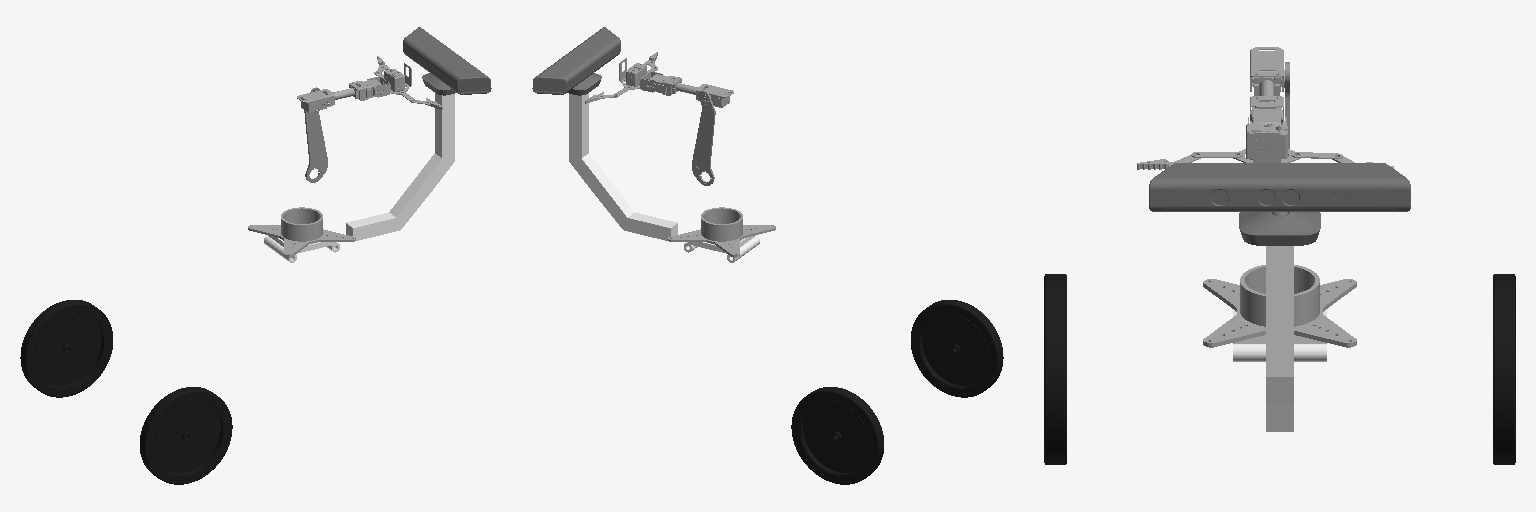
--- What the picture shows (computed from the rendered views, not written in the file) ---
The picture shows the robot from 3 angles, left to right: view 1: azimuth 30°, elevation 25°; view 2: azimuth 150°, elevation 25°; view 3: azimuth 270°, elevation 25°; orthographic projection.
Model agribot_dummy_1 with 15 links and 14 joints (11 continuous, 1 prismatic, 2 fixed), rooted at base_link, posed every joint at zero.
Visible links, largest first — view 1: back_right_wheel, back_left_wheel, cam_attachment, Kinect, arm_base, link_3, link_2, eef_base, slider_link; view 2: back_left_wheel, back_right_wheel, cam_attachment, Kinect, arm_base, link_2, link_3, eef_base, slider_link; view 3: Kinect, arm_base, cam_attachment, back_left_wheel, back_right_wheel, link_3, eef_base, slider_link, right_claw.
Boxes of the visible links, left/top/right/bottom form: back_right_wheel: left=140, top=387, right=232, bottom=484; back_left_wheel: left=20, top=300, right=112, bottom=397; cam_attachment: left=346, top=93, right=454, bottom=240; Kinect: left=403, top=27, right=491, bottom=95; arm_base: left=248, top=207, right=355, bottom=257; link_3: left=297, top=79, right=381, bottom=112; link_2: left=304, top=87, right=327, bottom=182; eef_base: left=367, top=63, right=411, bottom=97; slider_link: left=264, top=235, right=339, bottom=262; back_left_wheel: left=791, top=387, right=883, bottom=484; back_right_wheel: left=911, top=300, right=1003, bottom=397; cam_attachment: left=569, top=93, right=677, bottom=240; Kinect: left=532, top=27, right=620, bottom=95; arm_base: left=668, top=207, right=775, bottom=257; link_2: left=692, top=90, right=715, bottom=185; link_3: left=647, top=74, right=733, bottom=107; eef_base: left=619, top=58, right=662, bottom=92; slider_link: left=684, top=235, right=759, bottom=262; Kinect: left=1149, top=163, right=1410, bottom=245; arm_base: left=1203, top=265, right=1356, bottom=347; cam_attachment: left=1266, top=246, right=1293, bottom=431; back_left_wheel: left=1493, top=274, right=1515, bottom=464; back_right_wheel: left=1044, top=274, right=1066, bottom=464; link_3: left=1250, top=47, right=1284, bottom=124; eef_base: left=1233, top=117, right=1300, bottom=162; slider_link: left=1233, top=309, right=1326, bottom=361; right_claw: left=1137, top=152, right=1242, bottom=169.
Bounding box of the posed robot: 0.8741 × 0.5006 × 0.679 m (x, y, z).
Meshes: 15 distinct files referenced, 11 mesh visuals loaded (11 binary STL); not drawn: 4 (reference not matched to a file when rendering).

robot.urdf — agribot_dummy_1:
<?xml version="1.0" ?>
<!-- =================================================================================== -->
<!-- |    This document was autogenerated by xacro from [local-path]/ws_moveit/src/agribot_dummy_1_description/urdf/agribot_dummy_1.xacro | -->
<!-- |    EDITING THIS FILE BY HAND IS NOT RECOMMENDED                                 | -->
<!-- =================================================================================== -->
<robot name="agribot_dummy_1">
    <material name="silver_default">
        <color rgba="0.700 0.700 0.700 1.000" />
    </material>
    <material name="rubber_hard">
        <color rgba="0.15294117647058825 0.15294117647058825 0.15294117647058825 1.0" />
    </material>
    <material name="opaque565656">
        <color rgba="0.2196078431372549 0.2196078431372549 0.2196078431372549 1.0" />
    </material>
    <material name="steel_satin">
        <color rgba="0.6274509803921569 0.6274509803921569 0.6274509803921569 1.0" />
    </material>
    <material name="aluminum_satin">
        <color rgba="0.9607843137254902 0.9607843137254902 0.9647058823529412 1.0" />
    </material>
    <material name="opaque126126126">
        <color rgba="0.49411764705882355 0.49411764705882355 0.49411764705882355 1.0" />
    </material>
    <transmission name="front_right_tran">
        <type>transmission_interface/SimpleTransmission</type>
        <joint name="front_right">
            <hardwareInterface>hardware_interface/EffortJointInterface</hardwareInterface>
        </joint>
        <actuator name="front_right_actr">
            <hardwareInterface>hardware_interface/EffortJointInterface</hardwareInterface>
            <mechanicalReduction>1</mechanicalReduction>
        </actuator>
    </transmission>
    <transmission name="front_left_tran">
        <type>transmission_interface/SimpleTransmission</type>
        <joint name="front_left">
            <hardwareInterface>hardware_interface/EffortJointInterface</hardwareInterface>
        </joint>
        <actuator name="front_left_actr">
            <hardwareInterface>hardware_interface/EffortJointInterface</hardwareInterface>
            <mechanicalReduction>1</mechanicalReduction>
        </actuator>
    </transmission>
    <transmission name="back_left_tran">
        <type>transmission_interface/SimpleTransmission</type>
        <joint name="back_left">
            <hardwareInterface>hardware_interface/EffortJointInterface</hardwareInterface>
        </joint>
        <actuator name="back_left_actr">
            <hardwareInterface>hardware_interface/EffortJointInterface</hardwareInterface>
            <mechanicalReduction>1</mechanicalReduction>
        </actuator>
    </transmission>
    <transmission name="back_right_tran">
        <type>transmission_interface/SimpleTransmission</type>
        <joint name="back_right">
            <hardwareInterface>hardware_interface/EffortJointInterface</hardwareInterface>
        </joint>
        <actuator name="back_right_actr">
            <hardwareInterface>hardware_interface/EffortJointInterface</hardwareInterface>
            <mechanicalReduction>1</mechanicalReduction>
        </actuator>
    </transmission>
    <transmission name="Slider 14_tran">
        <type>transmission_interface/SimpleTransmission</type>
        <joint name="Slider">
            <hardwareInterface>hardware_interface/PositionJointInterface</hardwareInterface>
        </joint>
        <actuator name="Slider 14_actr">
            <hardwareInterface>hardware_interface/PositionJointInterface</hardwareInterface>
            <mechanicalReduction>1</mechanicalReduction>
        </actuator>
    </transmission>
    <transmission name="arm_twist_tran">
        <type>transmission_interface/SimpleTransmission</type>
        <joint name="arm_twist">
            <hardwareInterface>hardware_interface/PositionJointInterface</hardwareInterface>
        </joint>
        <actuator name="arm_twist_actr">
            <hardwareInterface>hardware_interface/PositionJointInterface</hardwareInterface>
            <mechanicalReduction>1</mechanicalReduction>
        </actuator>
    </transmission>
    <transmission name="shoulder_tran">
        <type>transmission_interface/SimpleTransmission</type>
        <joint name="shoulder">
            <hardwareInterface>hardware_interface/PositionJointInterface</hardwareInterface>
        </joint>
        <actuator name="shoulder_actr">
            <hardwareInterface>hardware_interface/PositionJointInterface</hardwareInterface>
            <mechanicalReduction>1</mechanicalReduction>
        </actuator>
    </transmission>
    <transmission name="elbow_tran">
        <type>transmission_interface/SimpleTransmission</type>
        <joint name="elbow">
            <hardwareInterface>hardware_interface/PositionJointInterface</hardwareInterface>
        </joint>
        <actuator name="elbow_actr">
            <hardwareInterface>hardware_interface/PositionJointInterface</hardwareInterface>
            <mechanicalReduction>1</mechanicalReduction>
        </actuator>
    </transmission>
    <transmission name="wrist_tran">
        <type>transmission_interface/SimpleTransmission</type>
        <joint name="wrist">
            <hardwareInterface>hardware_interface/PositionJointInterface</hardwareInterface>
        </joint>
        <actuator name="wrist_actr">
            <hardwareInterface>hardware_interface/PositionJointInterface</hardwareInterface>
            <mechanicalReduction>1</mechanicalReduction>
        </actuator>
    </transmission>
    <transmission name="right_finger_tran">
        <type>transmission_interface/SimpleTransmission</type>
        <joint name="right_finger">
            <hardwareInterface>hardware_interface/PositionJointInterface</hardwareInterface>
        </joint>
        <actuator name="right_finger_actr">
            <hardwareInterface>hardware_interface/PositionJointInterface</hardwareInterface>
            <mechanicalReduction>1</mechanicalReduction>
        </actuator>
    </transmission>
    <transmission name="left_finger_tran">
        <type>transmission_interface/SimpleTransmission</type>
        <joint name="left_finger">
            <hardwareInterface>hardware_interface/PositionJointInterface</hardwareInterface>
        </joint>
        <actuator name="left_finger_actr">
            <hardwareInterface>hardware_interface/PositionJointInterface</hardwareInterface>
            <mechanicalReduction>1</mechanicalReduction>
        </actuator>
    </transmission>
    <transmission name="camera_twist_tran">
        <type>transmission_interface/SimpleTransmission</type>
        <joint name="camera_twist">
            <hardwareInterface>hardware_interface/PositionJointInterface</hardwareInterface>
        </joint>
        <actuator name="camera_twist_actr">
            <hardwareInterface>hardware_interface/PositionJointInterface</hardwareInterface>
            <mechanicalReduction>1</mechanicalReduction>
        </actuator>
    </transmission>
<gazebo>
  <plugin name="control" filename="libgazebo_ros_control.so"/>
</gazebo>
    <gazebo reference="base_link">
        <material>Gazebo/Silver</material>
        <mu1>0.2</mu1>
        <mu2>0.2</mu2>
        <selfCollide>true</selfCollide>
        <gravity>true</gravity>
    </gazebo>
    <gazebo reference="front_right_wheel">
        <material>Gazebo/Silver</material>
        <mu1>0.9</mu1>
        <mu2>0.9</mu2>
        <selfCollide>true</selfCollide>
            <minDepth>0.001</minDepth>
            <kp>1000000</kp>
            <kd>1</kd>
        <implicitSpringDamper>true</implicitSpringDamper>
    </gazebo>
    <gazebo reference="front_left_wheel">
        <material>Gazebo/Silver</material>
        <mu1>0.9</mu1>
        <mu2>0.9</mu2>
        <selfCollide>true</selfCollide>
            <minDepth>0.001</minDepth>
            <kp>1000000</kp>
            <kd>1</kd>
        <implicitSpringDamper>true</implicitSpringDamper>
    </gazebo>
    <gazebo reference="back_left_wheel">
        <material>Gazebo/Silver</material>
        <mu1>0.9</mu1>
        <mu2>0.9</mu2>
        <selfCollide>true</selfCollide>
            <minDepth>0.001</minDepth>
            <kp>1000000</kp>
            <kd>1</kd>
        <implicitSpringDamper>true</implicitSpringDamper>
    </gazebo>
    <gazebo reference="back_right_wheel">
        <material>Gazebo/Silver</material>
        <mu1>0.9</mu1>
        <mu2>0.9</mu2>
        <selfCollide>true</selfCollide>
            <minDepth>0.001</minDepth>
            <kp>1000000</kp>
            <kd>1</kd>
        <implicitSpringDamper>true</implicitSpringDamper>
    </gazebo>
    <gazebo reference="slider_link">
        <material>Gazebo/Silver</material>
        <mu1>0.2</mu1>
        <mu2>0.2</mu2>
        <selfCollide>true</selfCollide>
    </gazebo>
    <gazebo reference="arm_base">
        <material>Gazebo/Silver</material>
        <mu1>0.2</mu1>
        <mu2>0.2</mu2>
        <selfCollide>true</selfCollide>
    </gazebo>
    <gazebo reference="link_1">
        <material>Gazebo/Silver</material>
        <mu1>0.2</mu1>
        <mu2>0.2</mu2>
        <selfCollide>true</selfCollide>
    </gazebo>
    <gazebo reference="link_2">
        <material>Gazebo/Silver</material>
        <mu1>0.2</mu1>
        <mu2>0.2</mu2>
        <selfCollide>true</selfCollide>
    </gazebo>
    <gazebo reference="link_3">
        <material>Gazebo/Silver</material>
        <mu1>0.2</mu1>
        <mu2>0.2</mu2>
        <selfCollide>true</selfCollide>
    </gazebo>
    <gazebo reference="eef_base">
        <material>Gazebo/Silver</material>
        <mu1>0.2</mu1>
        <mu2>0.2</mu2>
        <selfCollide>true</selfCollide>
    </gazebo>
    <gazebo reference="right_claw">
        <material>Gazebo/Silver</material>
        <mu1>0.2</mu1>
        <mu2>0.2</mu2>
        <selfCollide>true</selfCollide>
    </gazebo>
    <gazebo reference="left_claw">
        <material>Gazebo/Silver</material>
        <mu1>0.2</mu1>
        <mu2>0.2</mu2>
        <selfCollide>true</selfCollide>
    </gazebo>
    <gazebo reference="cam_attachment">
        <material>Gazebo/Silver</material>
        <mu1>0.2</mu1>
        <mu2>0.2</mu2>
        <selfCollide>true</selfCollide>
    </gazebo>
    <gazebo reference="Kinect">
        <material>Gazebo/Silver</material>
        <mu1>0.2</mu1>
        <mu2>0.2</mu2>
        <selfCollide>true</selfCollide>
    </gazebo>

    <gazebo>
        <plugin filename="libgazebo_ros_skid_steer_drive.so" name="skid_steer_drive_controller">
            <updateRate>10</updateRate>
            <robotNamespace>/</robotNamespace>
            <leftFrontJoint>front_left</leftFrontJoint>
            <rightFrontJoint>front_right</rightFrontJoint>
            <leftRearJoint>back_left</leftRearJoint>
            <rightRearJoint>back_right</rightRearJoint>
            <wheelSeparation>0.476.6</wheelSeparation>
            <wheelDiameter>0.2032</wheelDiameter>
            <robotBaseFrame>base_link</robotBaseFrame>
            <torque>7</torque>
            <topicName>cmd_vel</topicName>
            <broadcastTF>true</broadcastTF>
        </plugin>
    </gazebo>

    <gazebo reference="Kinect">
        <sensor name="kinect_camera" type="depth">
            <update_rate>0</update_rate>
            <camera>
                <horizontal_fov>1.24</horizontal_fov>
                <image>
                    <width>1920</width>
                    <height>1080</height>
                    <format>R8G8B8</format>
                </image>
                <clip>
                    <near>0.5</near>
                    <far>4.5</far>
                </clip>
            </camera>
            <plugin filename="libgazebo_ros_openni_kinect.so" name="Kinect_controller">
                <baseline>0.2</baseline>
                <alwaysOn>true</alwaysOn>
                <updateRate>0.0</updateRate>
                <cameraName>Kinect</cameraName>
                <imageTopicName>/Kinect/color/image_raw</imageTopicName>
                <cameraInfoTopicName>/Kinect/color/camera_info</cameraInfoTopicName>
                <depthImageTopicName>/Kinect/depth/image_raw</depthImageTopicName>
                <depthImageInfoTopicName>/Kinect/depth/camera_info</depthImageInfoTopicName>
                <pointCloudTopicName>/Kinect/depth/points</pointCloudTopicName>
                <frameName>Kinect</frameName>
                <pointCloudCutoff>0.5</pointCloudCutoff>
                <pointCloudCutoffMax>4.5</pointCloudCutoffMax>
                <distortionK1>0.00000001</distortionK1>
                <distortionK2>0.00000001</distortionK2>
                <distortionK3>0.00000001</distortionK3>
                <distortionT1>0.00000001</distortionT1>
                <distortionT2>0.00000001</distortionT2>
                <CxPrime>0</CxPrime>
                <Cx>0</Cx>
                <Cy>0</Cy>
                <focalLength>0</focalLength>
                <hackBaseline>0</hackBaseline>
            </plugin>
        </sensor>
    </gazebo>
    
    <link name="base_link">
        <inertial>
            <origin rpy="0 0 0" xyz="0.2514408376198744 -0.18000014406773893 0.22560750352264175" />
            <mass value="12.394351278281407" />
            <inertia ixx="0.331936" ixy="-0.0" ixz="-0.001939" iyy="0.640231" iyz="-0.0" izz="0.801659" />
        </inertial>
        <visual>
            <origin rpy="0 0 0" xyz="0 0 0" />
            <geometry>
                <mesh filename="package://agribot_dummy_1_description/meshes/base_link.stl" scale="0.001 0.001 0.001" />
            </geometry>
            <material name="silver_default" />
        </visual>
        <collision>
            <origin rpy="0 0 0" xyz="0 0 0" />
            <geometry>
                <mesh filename="package://agribot_dummy_1_description/meshes/base_link.stl" scale="0.001 0.001 0.001" />
            </geometry>
        </collision>
    </link>
    <link name="front_right_wheel">
        <inertial>
            <origin rpy="0 0 0" xyz="-1.1102230246251565e-16 -0.008317531517497756 3.774758283725532e-15" />
            <mass value="0.04179337834879549" />
            <inertia ixx="0.00016" ixy="0.0" ixz="-0.0" iyy="0.000316" iyz="-0.0" izz="0.00016" />
        </inertial>
        <visual>
            <origin rpy="0 0 0" xyz="-0.515 0.41 -0.102206" />
            <geometry>
                <mesh filename="package://agribot_dummy_1_description/meshes/front_right_wheel_1.stl" scale="0.001 0.001 0.001" />
            </geometry>
            <material name="rubber_hard" />
        </visual>
        <collision>
            <origin rpy="0 0 0" xyz="-0.515 0.41 -0.102206" />
            <geometry>
                <mesh filename="package://agribot_dummy_1_description/meshes/front_right_wheel_1.stl" scale="0.001 0.001 0.001" />
            </geometry>
        </collision>
    </link>
    <link name="front_left_wheel">
        <inertial>
            <origin rpy="0 0 0" xyz="2.8786848882411675e-07 0.008317531517497673 1.2677459453047657e-07" />
            <mass value="0.04179337834879549" />
            <inertia ixx="0.00016" ixy="0.0" ixz="0.0" iyy="0.000316" iyz="-0.0" izz="0.00016" />
        </inertial>
        <visual>
            <origin rpy="0 0 0" xyz="-0.514936 -0.05 -0.1016" />
            <geometry>
                <mesh filename="package://agribot_dummy_1_description/meshes/front_left_wheel_1.stl" scale="0.001 0.001 0.001" />
            </geometry>
            <material name="rubber_hard" />
        </visual>
        <collision>
            <origin rpy="0 0 0" xyz="-0.514936 -0.05 -0.1016" />
            <geometry>
                <mesh filename="package://agribot_dummy_1_description/meshes/front_left_wheel_1.stl" scale="0.001 0.001 0.001" />
            </geometry>
        </collision>
    </link>
    <link name="back_left_wheel">
        <inertial>
            <origin rpy="0 0 0" xyz="2.8786848866972636e-07 0.008317531517497881 1.2677459453047657e-07" />
            <mass value="0.04179337834879549" />
            <inertia ixx="0.00016" ixy="0.0" ixz="-0.0" iyy="0.000316" iyz="0.0" izz="0.00016" />
        </inertial>
        <visual>
            <origin rpy="0 0 0" xyz="0.015064 -0.05 -0.1016" />
            <geometry>
                <mesh filename="package://agribot_dummy_1_description/meshes/back_left_wheel_1.stl" scale="0.001 0.001 0.001" />
            </geometry>
            <material name="rubber_hard" />
        </visual>
        <collision>
            <origin rpy="0 0 0" xyz="0.015064 -0.05 -0.1016" />
            <geometry>
                <mesh filename="package://agribot_dummy_1_description/meshes/back_left_wheel_1.stl" scale="0.001 0.001 0.001" />
            </geometry>
        </collision>
    </link>
    <link name="back_right_wheel">
        <inertial>
            <origin rpy="0 0 0" xyz="2.878684886211541e-07 -0.008317531517497811 1.2677459453047657e-07" />
            <mass value="0.04179337834879549" />
            <inertia ixx="0.00016" ixy="0.0" ixz="0.0" iyy="0.000316" iyz="-0.0" izz="0.00016" />
        </inertial>
        <visual>
            <origin rpy="0 0 0" xyz="0.015064 0.41 -0.1016" />
            <geometry>
                <mesh filename="package://agribot_dummy_1_description/meshes/back_right_wheel_1.stl" scale="0.001 0.001 0.001" />
            </geometry>
            <material name="rubber_hard" />
        </visual>
        <collision>
            <origin rpy="0 0 0" xyz="0.015064 0.41 -0.1016" />
            <geometry>
                <mesh filename="package://agribot_dummy_1_description/meshes/back_right_wheel_1.stl" scale="0.001 0.001 0.001" />
            </geometry>
        </collision>
    </link>
    <link name="slider_link">
        <inertial>
            <origin rpy="0 0 0" xyz="0.049999744653985045 -2.220446049250313e-16 0.010064724681724257" />
            <mass value="0.4468199697005557" />
            <inertia ixx="0.000398" ixy="0.0" ixz="0.0" iyy="0.000608" iyz="0.0" izz="0.000954" />
        </inertial>
        <visual>
            <origin rpy="0 0 0" xyz="-0.340357 0.18 -0.334206" />
            <geometry>
                <mesh filename="package://agribot_dummy_1_description/meshes/slider_link_1.stl" scale="0.001 0.001 0.001" />
            </geometry>
            <material name="aluminum_satin" />
        </visual>
        <collision>
            <origin rpy="0 0 0" xyz="-0.340357 0.18 -0.334206" />
            <geometry>
                <mesh filename="package://agribot_dummy_1_description/meshes/slider_link_1.stl" scale="0.001 0.001 0.001" />
            </geometry>
        </collision>
    </link>
    <link name="arm_base">
        <inertial>
            <origin rpy="0 0 0" xyz="-2.5534600761600856e-07 4.163336342344337e-16 0.010307344162242882" />
            <mass value="0.9330886709339282" />
            <inertia ixx="0.001421" ixy="-0.0" ixz="-0.0" iyy="0.001421" iyz="0.0" izz="0.002578" />
        </inertial>
        <visual>
            <origin rpy="0 0 0" xyz="-0.390357 0.18 -0.354206" />
            <geometry>
                <mesh filename="package://agribot_dummy_1_description/meshes/arm_base_1.stl" scale="0.001 0.001 0.001" />
            </geometry>
            <material name="silver_default" />
        </visual>
        <collision>
            <origin rpy="0 0 0" xyz="-0.390357 0.18 -0.354206" />
            <geometry>
                <mesh filename="package://agribot_dummy_1_description/meshes/arm_base_1.stl" scale="0.001 0.001 0.001" />
            </geometry>
        </collision>
    </link>
    <link name="link_1">
        <inertial>
            <origin rpy="0 0 0" xyz="0.004456423186934566 0.003271946940343523 0.025593790212873335" />
            <mass value="1.6613467153005244" />
            <inertia ixx="0.002483" ixy="2.2e-05" ixz="-0.000454" iyy="0.002663" iyz="-0.000339" izz="0.002146" />
        </inertial>
        <visual>
            <origin rpy="0 0 0" xyz="-0.390357 0.18 -0.395206" />
            <geometry>
                <mesh filename="package://agribot_dummy_1_description/meshes/link_1_v3_1.stl" scale="0.001 0.001 0.001" />
            </geometry>
            <material name="opaque565656" />
        </visual>
        <collision>
            <origin rpy="0 0 0" xyz="-0.390357 0.18 -0.395206" />
            <geometry>
                <mesh filename="package://agribot_dummy_1_description/meshes/link_1_v3_1.stl" scale="0.001 0.001 0.001" />
            </geometry>
        </collision>
    </link>
    <link name="link_2">
        <inertial>
            <origin rpy="0 0 0" xyz="-0.005697039824627881 -0.0004995401177828596 0.0884670509482548" />
            <mass value="0.2532575834482899" />
            <inertia ixx="0.000761" ixy="0.0" ixz="5.6e-05" iyy="0.000795" iyz="0.0" izz="3.6e-05" />
        </inertial>
        <visual>
            <origin rpy="0 0 0" xyz="-0.431408 0.171289 -0.469946" />
            <geometry>
                <mesh filename="package://agribot_dummy_1_description/meshes/link_2__1__1.stl" scale="0.001 0.001 0.001" />
            </geometry>
            <material name="steel_satin" />
        </visual>
        <collision>
            <origin rpy="0 0 0" xyz="-0.431408 0.171289 -0.469946" />
            <geometry>
                <mesh filename="package://agribot_dummy_1_description/meshes/link_2__1__1.stl" scale="0.001 0.001 0.001" />
            </geometry>
        </collision>
    </link>
    <link name="link_3">
        <inertial>
            <origin rpy="0 0 0" xyz="0.04968904125333268 -0.01895305134049774 0.0013291327267154207" />
            <mass value="0.6682248227150333" />
            <inertia ixx="9.9e-05" ixy="9e-06" ixz="2.1e-05" iyy="0.002549" iyz="0.0" izz="0.00257" />
        </inertial>
        <visual>
            <origin rpy="0 0 0" xyz="-0.423276 0.174289 -0.646936" />
            <geometry>
                <mesh filename="package://agribot_dummy_1_description/meshes/link_3_v2_1.stl" scale="0.001 0.001 0.001" />
            </geometry>
            <material name="silver_default" />
        </visual>
        <collision>
            <origin rpy="0 0 0" xyz="-0.423276 0.174289 -0.646936" />
            <geometry>
                <mesh filename="package://agribot_dummy_1_description/meshes/link_3_v2_1.stl" scale="0.001 0.001 0.001" />
            </geometry>
        </collision>
    </link>
    <link name="eef_base">
        <inertial>
            <origin rpy="0 0 0" xyz="0.043185983208053336 -0.019105713731905394 0.004330577791318957" />
            <mass value="0.33153308863416714" />
            <inertia ixx="9.2e-05" ixy="0.0" ixz="-5e-06" iyy="9.1e-05" iyz="1e-06" izz="0.000121" />
        </inertial>
        <visual>
            <origin rpy="0 0 0" xyz="-0.5512 0.174589 -0.646936" />
            <geometry>
                <mesh filename="package://agribot_dummy_1_description/meshes/eef_base_v1_1.stl" scale="0.001 0.001 0.001" />
            </geometry>
            <material name="silver_default" />
        </visual>
        <collision>
            <origin rpy="0 0 0" xyz="-0.5512 0.174589 -0.646936" />
            <geometry>
                <mesh filename="package://agribot_dummy_1_description/meshes/eef_base_v1_1.stl" scale="0.001 0.001 0.001" />
            </geometry>
        </collision>
    </link>
    <link name="right_claw">
        <inertial>
            <origin rpy="0 0 0" xyz="0.01760998904896094 -0.06232708705438528 0.0008019626949357095" />
            <mass value="0.0273613159891005" />
            <inertia ixx="2.2e-05" ixy="9e-06" ixz="-0.0" iyy="4e-06" iyz="0.0" izz="2.7e-05" />
        </inertial>
        <visual>
            <origin rpy="0 0 0" xyz="-0.596135 0.225099 -0.637478" />
            <geometry>
                <mesh filename="package://agribot_dummy_1_description/meshes/right_claw_v3_1.stl" scale="0.001 0.001 0.001" />
            </geometry>
            <material name="silver_default" />
        </visual>
        <collision>
            <origin rpy="0 0 0" xyz="-0.596135 0.225099 -0.637478" />
            <geometry>
                <mesh filename="package://agribot_dummy_1_description/meshes/right_claw_v3_1.stl" scale="0.001 0.001 0.001" />
            </geometry>
        </collision>
    </link>
    <link name="left_claw">
        <inertial>
            <origin rpy="0 0 0" xyz="0.02296833455997338 0.060556652743396264 0.0008019626949468117" />
            <mass value="0.027361315989100136" />
            <inertia ixx="2.1e-05" ixy="-1e-05" ixz="-0.0" iyy="6e-06" iyz="-0.0" izz="2.7e-05" />
        </inertial>
        <visual>
            <origin rpy="0 0 0" xyz="-0.596135 0.162099 -0.637478" />
            <geometry>
                <mesh filename="package://agribot_dummy_1_description/meshes/left_claw_v3_1.stl" scale="0.001 0.001 0.001" />
            </geometry>
            <material name="silver_default" />
        </visual>
        <collision>
            <origin rpy="0 0 0" xyz="-0.596135 0.162099 -0.637478" />
            <geometry>
                <mesh filename="package://agribot_dummy_1_description/meshes/left_claw_v3_1.stl" scale="0.001 0.001 0.001" />
            </geometry>
        </collision>
    </link>
    <link name="cam_attachment">
        <inertial>
            <origin rpy="0 0 0" xyz="0.15746153034444033 -2.498001805406602e-16 0.07822756136912196" />
            <mass value="1.0263173373939967" />
            <inertia ixx="0.007817" ixy="0.0" ixz="-0.005237" iyy="0.012828" iyz="0.0" izz="0.005165" />
        </inertial>
        <visual>
            <origin rpy="0 0 0" xyz="-0.5 0.18 -0.349206" />
            <geometry>
                <mesh filename="package://agribot_dummy_1_description/meshes/cam_attachment_1.stl" scale="0.001 0.001 0.001" />
            </geometry>
            <material name="aluminum_satin" />
        </visual>
        <collision>
            <origin rpy="0 0 0" xyz="-0.5 0.18 -0.349206" />
            <geometry>
                <mesh filename="package://agribot_dummy_1_description/meshes/cam_attachment_1.stl" scale="0.001 0.001 0.001" />
            </geometry>
        </collision>
    </link>
    <link name="Kinect">
        <inertial>
            <origin rpy="0 0 0" xyz="-0.0022506378862189313 4.529465010386091e-05 0.04507191267797728" />
            <mass value="5.170544220159949" />
            <inertia ixx="0.024602" ixy="-7e-06" ixz="2.8e-05" iyy="0.00328" iyz="-3e-06" izz="0.024429" />
        </inertial>
        <visual>
            <origin rpy="0 0 0" xyz="-0.821066 0.18 -0.605272" />
            <geometry>
                <mesh filename="package://agribot_dummy_1_description/meshes/Kinect_1.stl" scale="0.001 0.001 0.001" />
            </geometry>
            <material name="opaque126126126" />
        </visual>
        <collision>
            <origin rpy="0 0 0" xyz="-0.821066 0.18 -0.605272" />
            <geometry>
                <mesh filename="package://agribot_dummy_1_description/meshes/Kinect_1.stl" scale="0.001 0.001 0.001" />
            </geometry>
        </collision>
    </link>
    <joint name="front_right" type="continuous">
        <origin rpy="0 0 0" xyz="0.515 -0.41 0.102206" />
        <parent link="base_link" />
        <child link="front_right_wheel" />
        <axis xyz="-0.0 1.0 0.0" />
    </joint>
    <joint name="front_left" type="continuous">
        <origin rpy="0 0 0" xyz="0.514936 0.05 0.1016" />
        <parent link="base_link" />
        <child link="front_left_wheel" />
        <axis xyz="0.0 1.0 0.0" />
    </joint>
    <joint name="back_left" type="continuous">
        <origin rpy="0 0 0" xyz="-0.015064 0.05 0.1016" />
        <parent link="base_link" />
        <child link="back_left_wheel" />
        <axis xyz="0.0 1.0 0.0" />
    </joint>
    <joint name="back_right" type="continuous">
        <origin rpy="0 0 0" xyz="-0.015064 -0.41 0.1016" />
        <parent link="base_link" />
        <child link="back_right_wheel" />
        <axis xyz="-0.0 1.0 0.0" />
    </joint>
    <joint name="Slider" type="prismatic">
        <origin rpy="0 0 0" xyz="0.340357 -0.18 0.334206" />
        <parent link="base_link" />
        <child link="slider_link" />
        <axis xyz="0.0 1.0 0.0" />
        <limit effort="100" lower="-0.10" upper="0.10" velocity="0.5" />
    </joint>
    <joint name="Rigid 15" type="fixed">
        <origin rpy="0 0 0" xyz="0.05 0.0 0.02" />
        <parent link="slider_link" />
        <child link="arm_base" />
    </joint>
    <joint name="arm_twist" type="continuous">
        <origin rpy="0 0 0" xyz="0.0 0.0 0.041" />
        <parent link="arm_base" />
        <child link="link_1" />
        <axis xyz="0.0 0.0 1.0" />
    </joint>
    <joint name="shoulder" type="continuous">
        <origin rpy="0 0 0" xyz="0.041051 0.008711 0.07474" />
        <parent link="link_1" />
        <child link="link_2" />
        <axis xyz="0.0 -1.0 -0.0" />
    </joint>
    <joint name="elbow" type="continuous">
        <origin rpy="0 0 0" xyz="-0.008132 -0.003 0.17699" />
        <parent link="link_2" />
        <child link="link_3" />
        <axis xyz="0.0 -1.0 -0.0" />
    </joint>
    <joint name="wrist" type="continuous">
        <origin rpy="0 0 0" xyz="0.127924 -0.0003 0.0" />
        <parent link="link_3" />
        <child link="eef_base" />
        <axis xyz="-0.0 1.0 0.0" />
    </joint>
    <joint name="right_finger" type="continuous">
        <origin rpy="0 0 0" xyz="0.044935 -0.05051 -0.009458" />
        <parent link="eef_base" />
        <child link="right_claw" />
        <axis xyz="-0.0 -0.0 1.0" />
    </joint>
    <joint name="left_finger" type="continuous">
        <origin rpy="0 0 0" xyz="0.044935 0.01249 -0.009458" />
        <parent link="eef_base" />
        <child link="left_claw" />
        <axis xyz="-0.0 -0.0 1.0" />
    </joint>
    <joint name="Rigid 22" type="fixed">
        <origin rpy="0 0 0" xyz="0.5 -0.18 0.349206" />
        <parent link="base_link" />
        <child link="cam_attachment" />
    </joint>
    <joint name="camera_twist" type="continuous">
        <origin rpy="0 0 0" xyz="0.321066 0.0 0.256066" />
        <parent link="cam_attachment" />
        <child link="Kinect" />
        <axis xyz="0.0 0.0 1.0" />
    </joint>
</robot>
